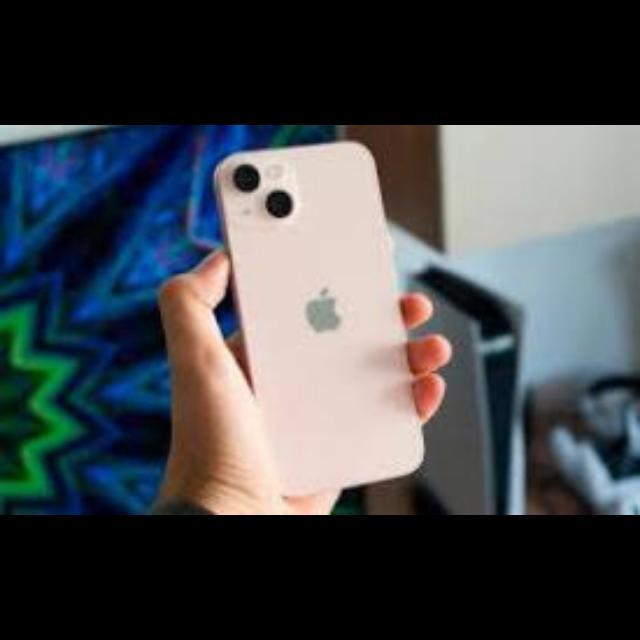PhoneUse: (213, 141, 424, 499)
